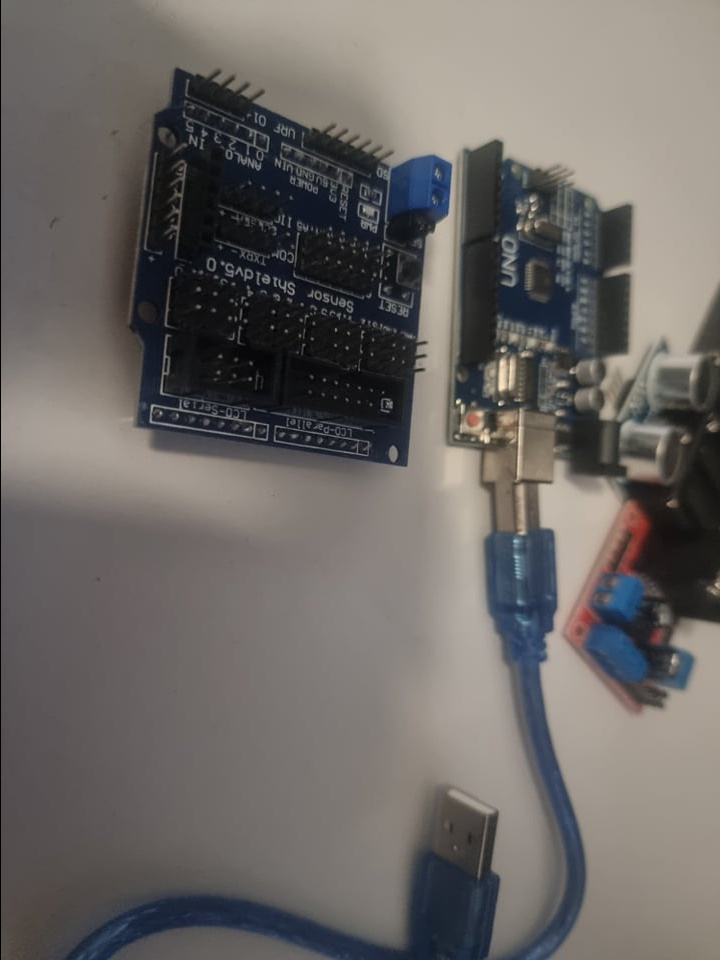5V EXPANSION: (133, 64, 453, 466)
MOTOR: (563, 502, 718, 719)
SENSOR: (611, 327, 714, 491)
UNO R3: (445, 141, 639, 481)
